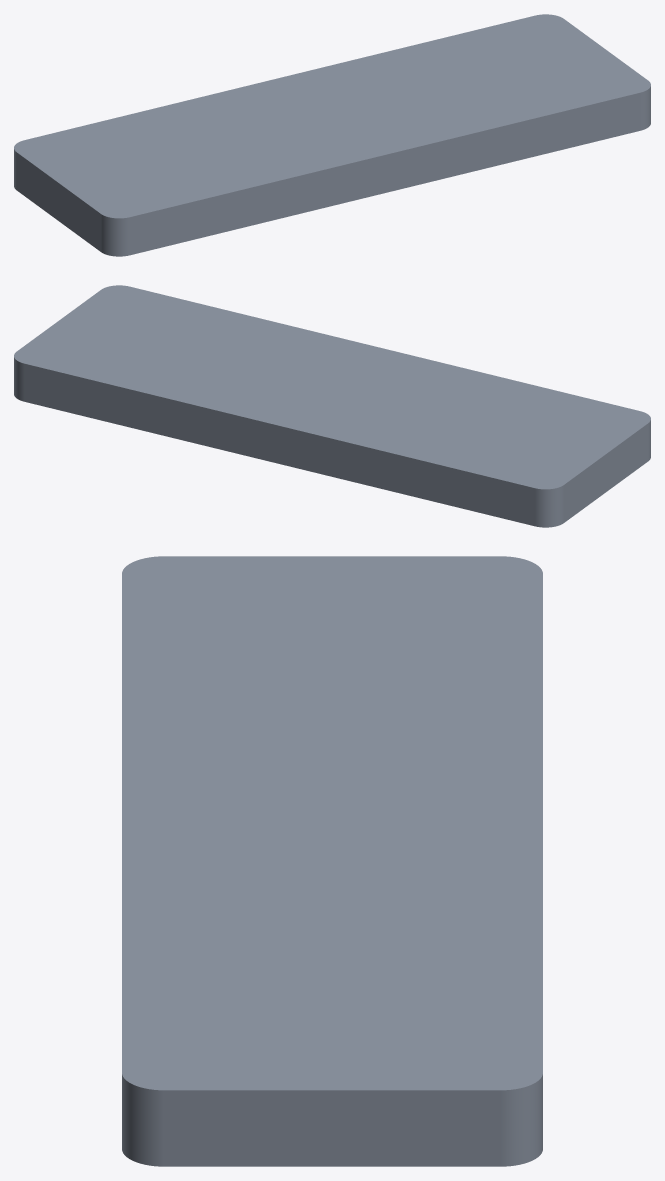
The model's file is step-3-preview-1.glb.
3 renders of one model, top to bottom at view 1: azimuth 30°, elevation 25°; view 2: azimuth 150°, elevation 25°; view 3: azimuth 270°, elevation 25°, orthographic. The views are drawn at different scales.
Visible parts, largest first — view 1: preview_1, preview_5, preview_0, preview_2, preview_7; view 2: preview_1, preview_6, preview_0, preview_3, preview_8; view 3: preview_1, preview_9, preview_7, preview_8.
Part boxes in pixels (x1,y1,x2,y2): preview_1: [14, 14, 650, 218]; preview_5: [129, 93, 640, 255]; preview_0: [16, 152, 100, 251]; preview_2: [101, 214, 129, 256]; preview_7: [640, 86, 650, 130]; preview_1: [14, 285, 650, 489]; preview_6: [24, 364, 535, 526]; preview_0: [564, 423, 648, 522]; preview_3: [535, 485, 563, 527]; preview_8: [14, 357, 24, 401]; preview_1: [122, 556, 542, 1090]; preview_9: [164, 1090, 500, 1166]; preview_7: [122, 1074, 163, 1166]; preview_8: [501, 1074, 542, 1166].
Bounding box in the file's own units: 0.06 × 0.004 × 0.02.
